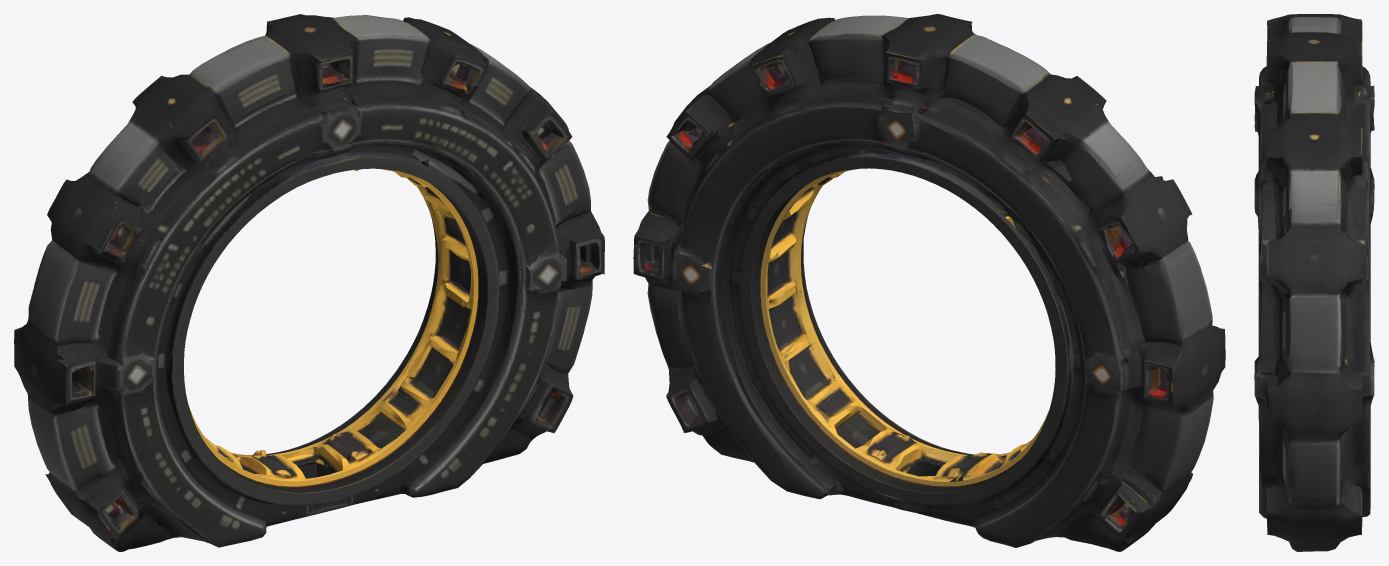
Rendered from stargate.glb.
3 renders of one model, left to right at view 1: azimuth 30°, elevation 25°; view 2: azimuth 150°, elevation 25°; view 3: azimuth 270°, elevation 25°, orthographic. The views are drawn at different scales.
Parts seen in each view (by area): view 1: Mesh0; view 2: Mesh0; view 3: Mesh0.
Boxes of the visible parts, left/top/right/bottom form: Mesh0: left=14, top=14, right=604, bottom=551; Mesh0: left=633, top=14, right=1225, bottom=551; Mesh0: left=1254, top=14, right=1374, bottom=551.
Bounding box in the file's own units: 1.91 × 1.56 × 0.3989.
Materials: 1 (1 with a texture image).
